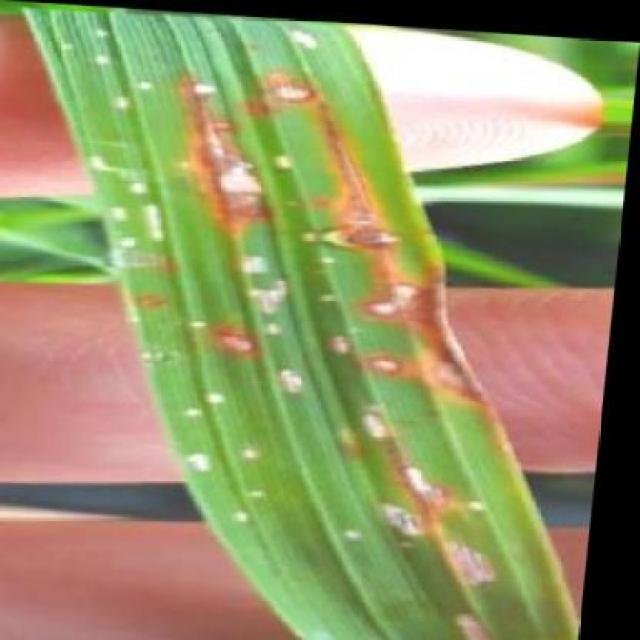Bacterial_Leaf_Blight: (170, 408, 292, 532), (46, 12, 160, 125), (161, 295, 268, 411), (79, 137, 179, 258), (313, 145, 401, 264), (186, 110, 266, 230), (84, 259, 199, 341), (404, 332, 502, 414), (418, 524, 522, 598), (380, 453, 491, 521), (343, 266, 449, 337), (353, 486, 432, 569), (222, 247, 301, 311), (253, 57, 330, 118), (262, 353, 328, 409), (437, 595, 518, 640), (172, 52, 233, 111), (343, 387, 403, 442), (354, 340, 404, 398), (276, 18, 326, 60), (318, 323, 360, 362)
